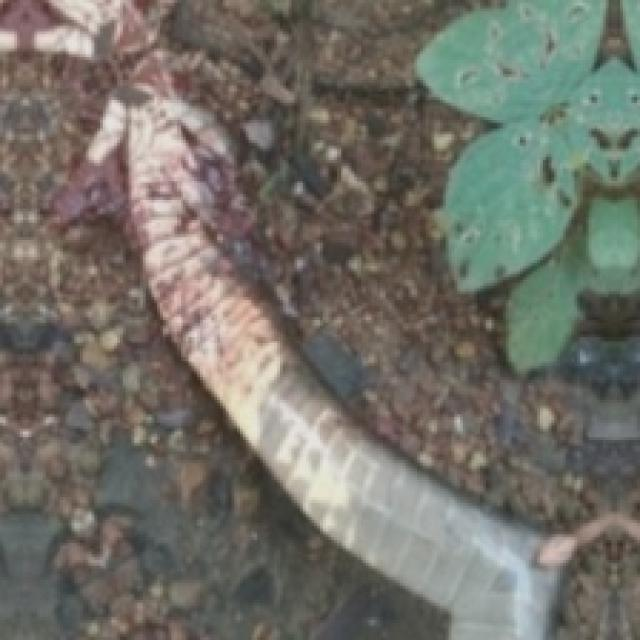king cobra: (0, 0, 637, 637), (557, 531, 637, 637)
